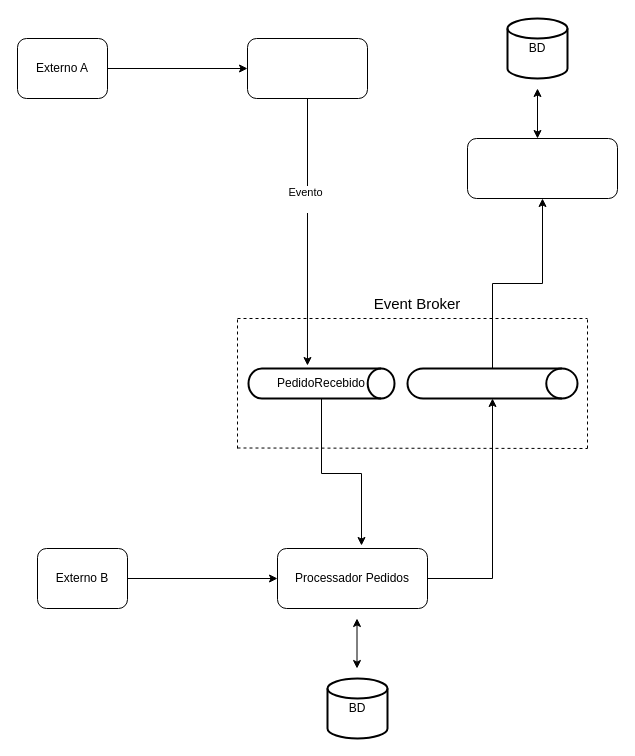
Some shapes in this 635 by 756 pixel diagram are drawn without their labels. Each missing label, with the box of its shape:
Emissão Nota Fiscal: (466, 138, 618, 198)
PedidoProcessado: (406, 367, 578, 399)
Recebimento Pedido: (246, 38, 368, 98)
